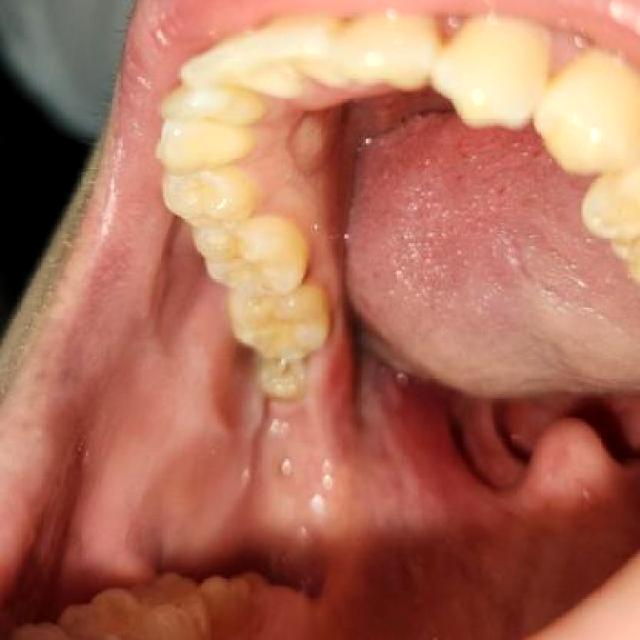Plaque: (251, 348, 315, 408), (292, 257, 332, 294), (206, 242, 243, 277)
